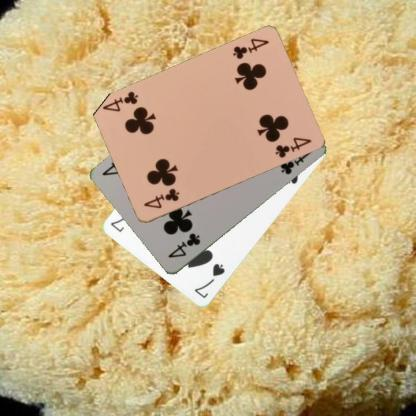4c: (165, 231, 202, 260), (230, 36, 270, 61), (140, 186, 181, 210)
7s: (192, 261, 226, 301)
